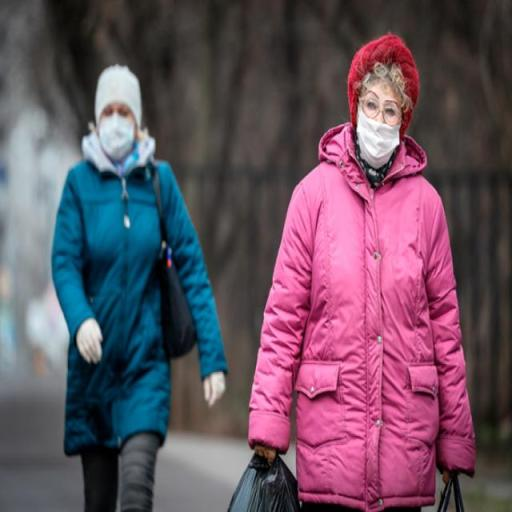person: (251, 31, 476, 512), (53, 61, 227, 512)
